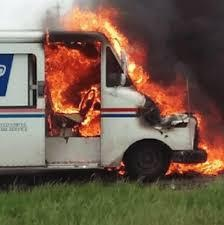fire: (104, 158, 128, 175)
